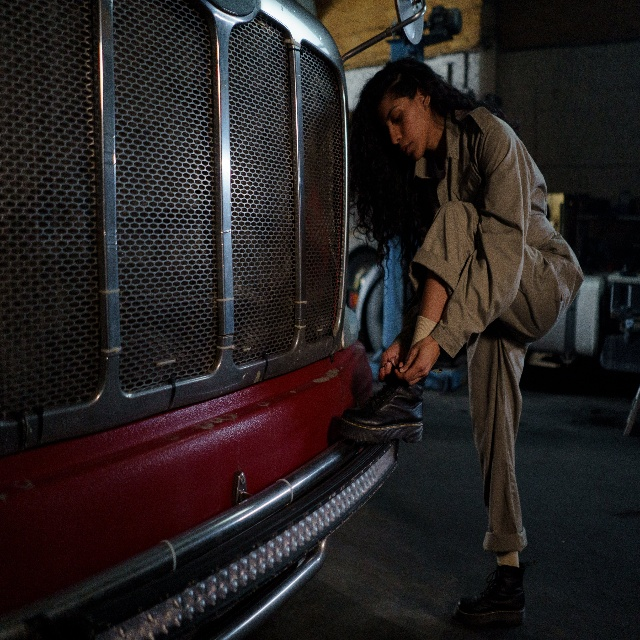Sin_guantes: (394, 335, 440, 386), (378, 342, 408, 382)
